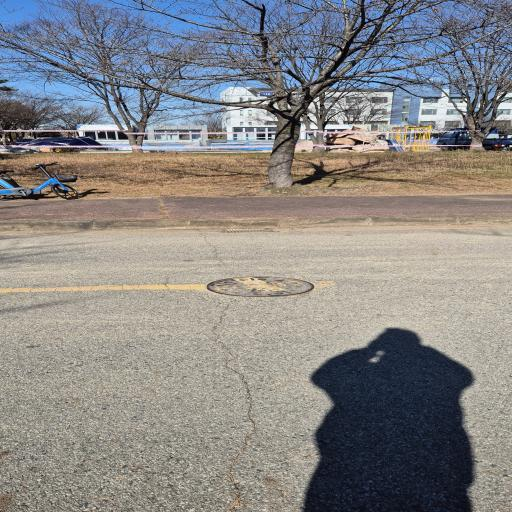drain: (226, 229, 266, 232)
